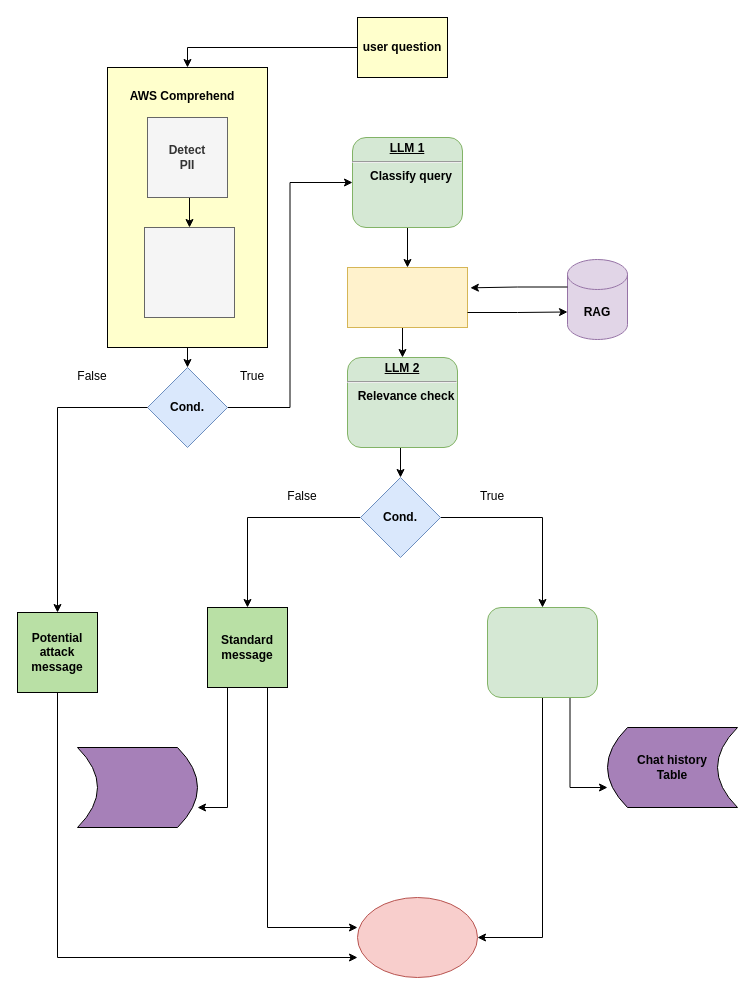
This 755x995 diagram has some shape labels left out. Here are the shapes that lost their labels. From the top down, the centre of each, then its label:
(x=189, y=272): Prompt safety classification
(x=407, y=297): Retrieve query
(x=542, y=652): LLM 3 Answer check
(x=137, y=787): User query Table
(x=417, y=937): Response
